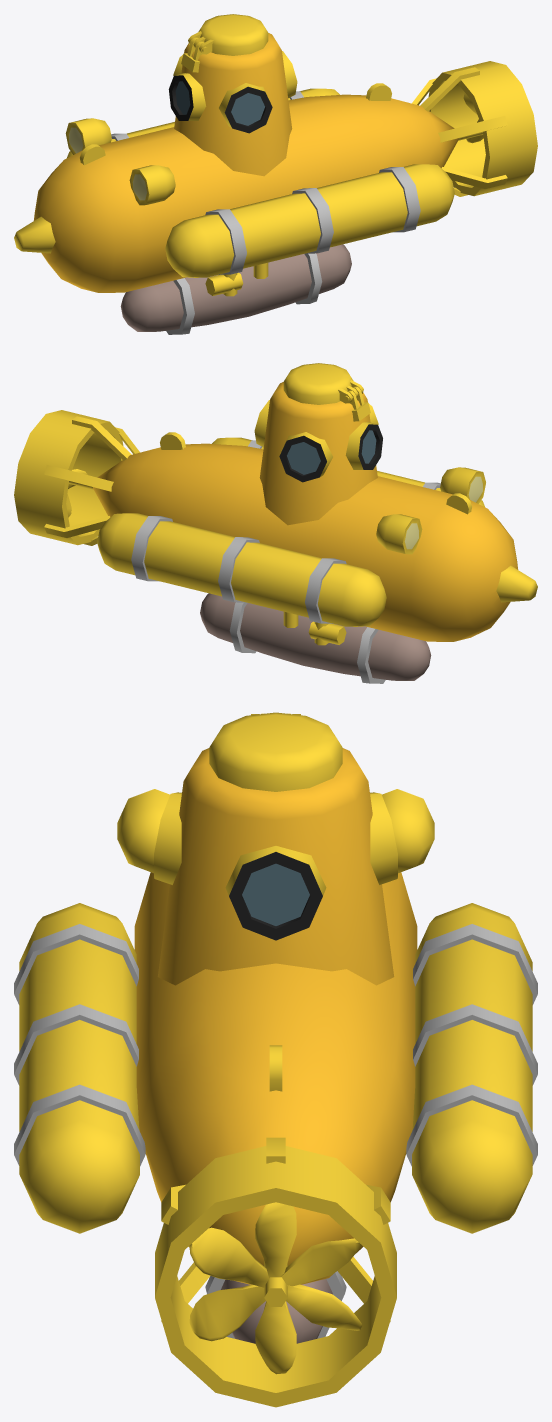
File: Water_Ship_001.glb
The picture shows the model from 3 angles, top to bottom: view 1: azimuth 30°, elevation 25°; view 2: azimuth 150°, elevation 25°; view 3: azimuth 270°, elevation 25°; orthographic projection. The views are drawn at different scales.
Parts seen in each view (by area): view 1: Water_Ship_001; view 2: Water_Ship_001; view 3: Water_Ship_001.
Boxes of the visible parts, x1,y1,x2,y2 form: Water_Ship_001: (14, 14, 537, 334); Water_Ship_001: (14, 363, 537, 683); Water_Ship_001: (14, 712, 537, 1407).
Bounding box in the file's own units: 6.99 × 4.04 × 3.43.
1 material, 1 textured.
